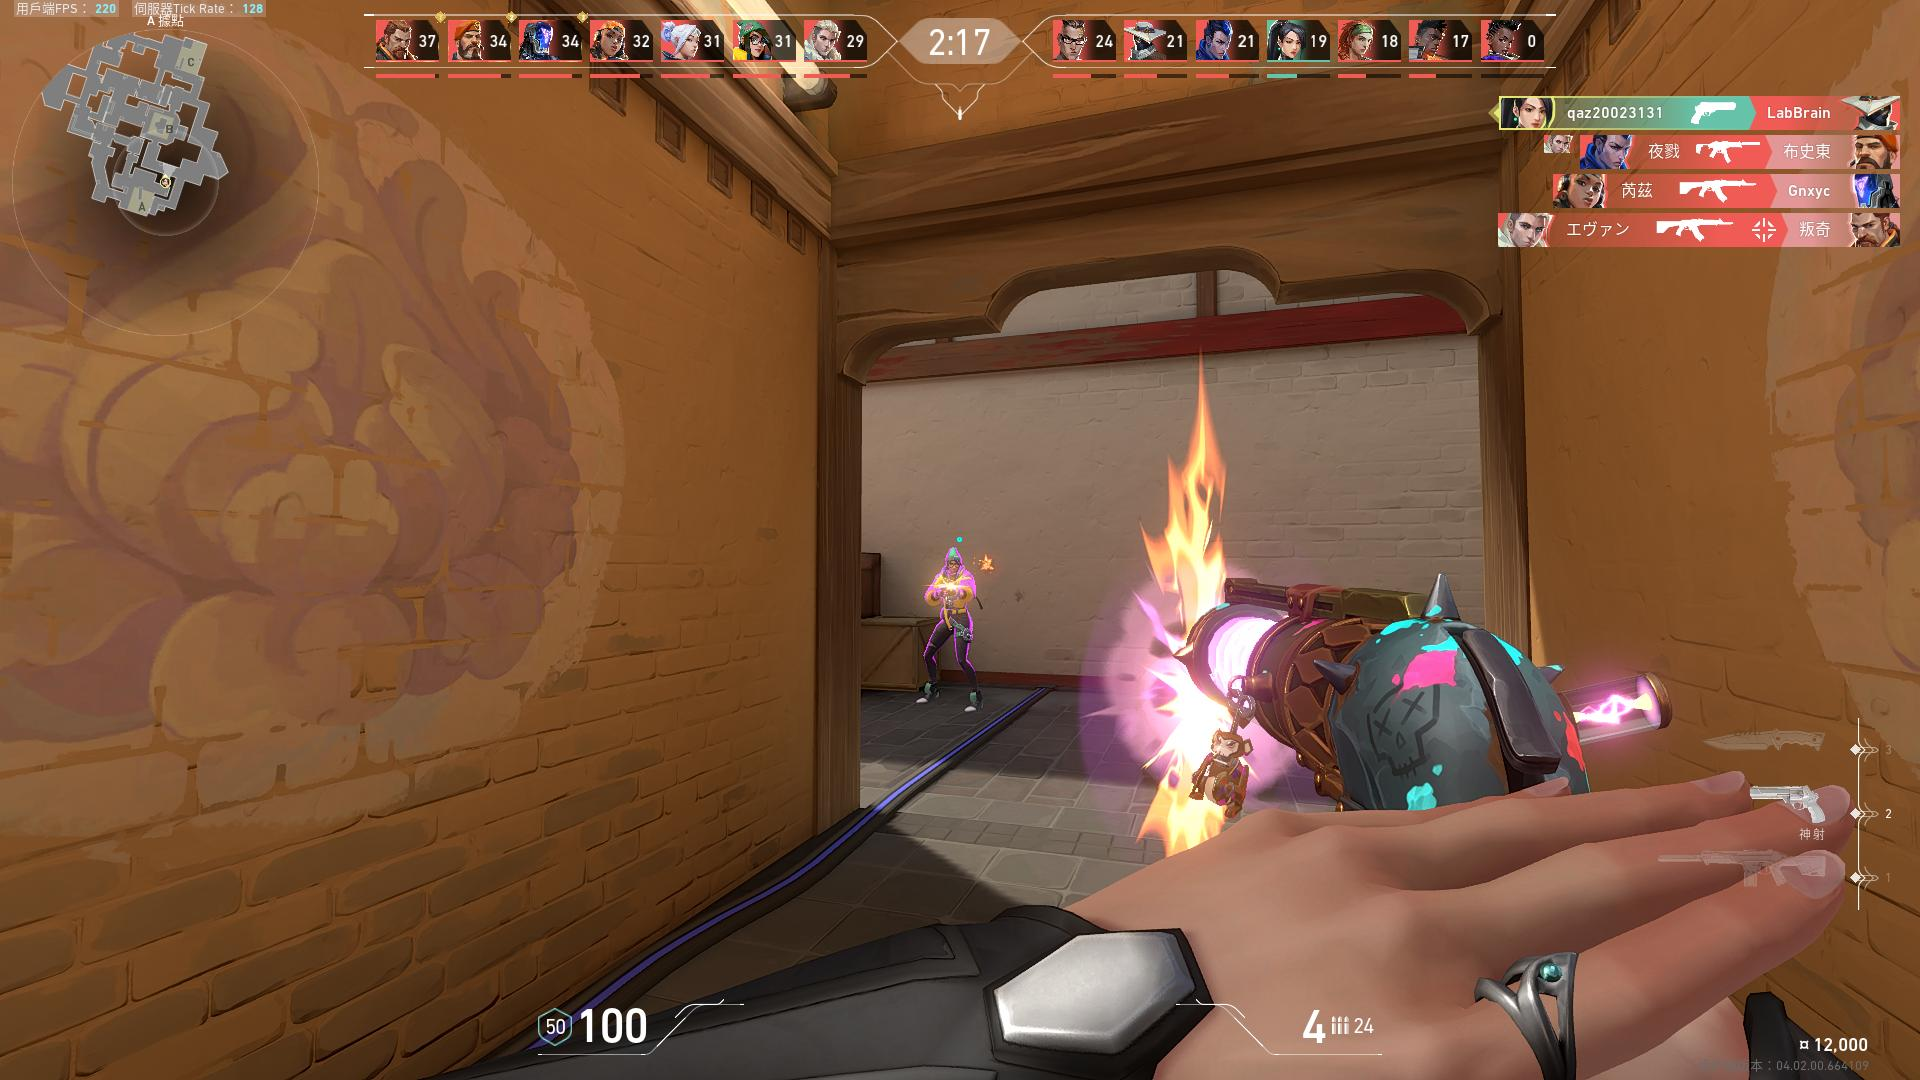enemyBody: (942, 574, 964, 620)
enemyHead: (947, 556, 961, 572)
